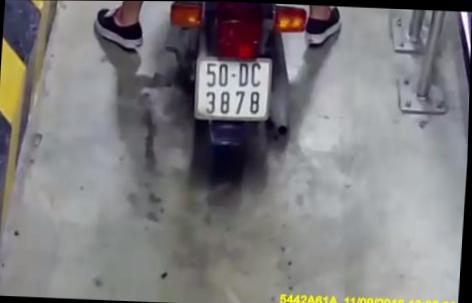LP: (193, 52, 273, 122)
